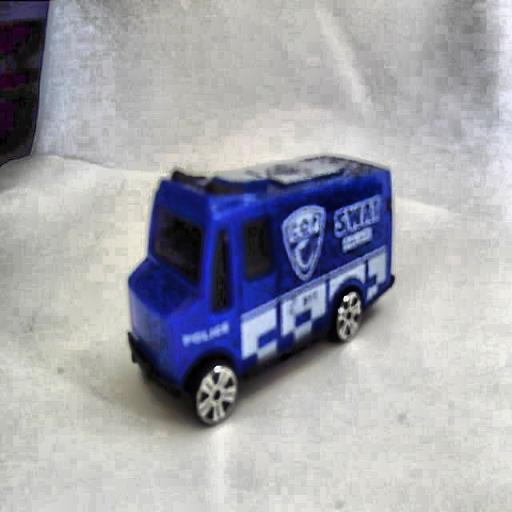police car: (120, 142, 398, 433)
